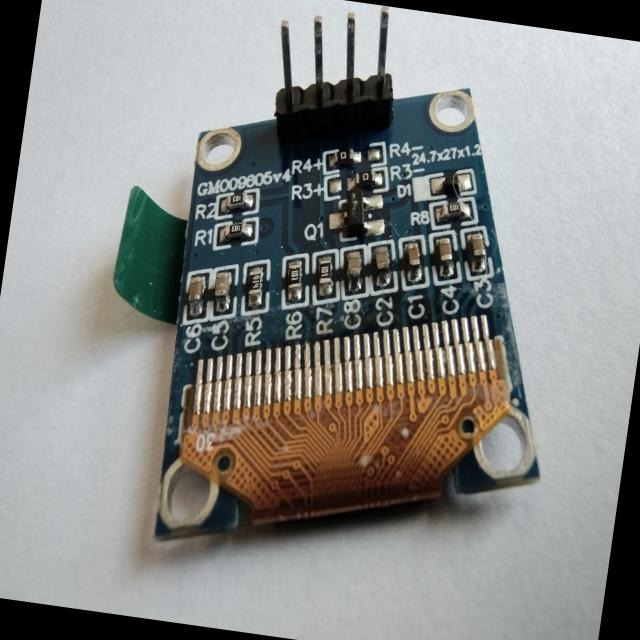oled: (95, 0, 630, 604)
